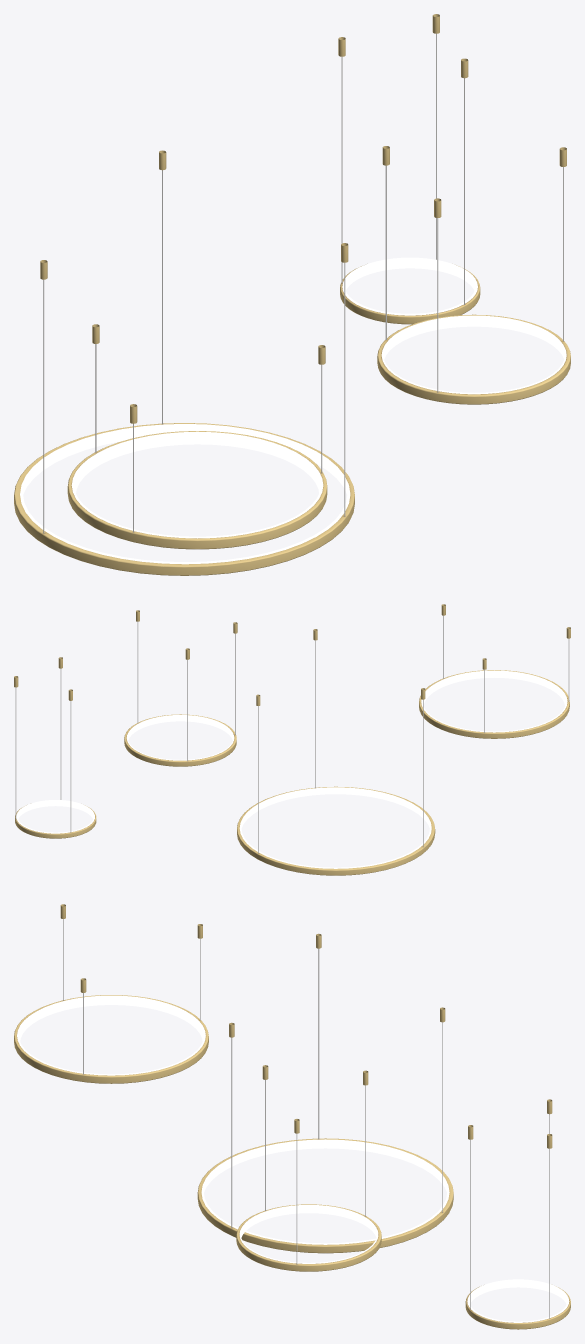
The model's file is CommunityRoomA_CenterLight.fbx.
The picture shows the model from 3 angles, top to bottom: view 1: azimuth 30°, elevation 25°; view 2: azimuth 150°, elevation 25°; view 3: azimuth 270°, elevation 25°; orthographic projection. The views are drawn at different scales.
Parts seen in each view (by area): view 1: CommunityRoomA_CenterLight; view 2: CommunityRoomA_CenterLight; view 3: CommunityRoomA_CenterLight.
Part boxes in pixels (x1,y1,x2,y2): CommunityRoomA_CenterLight: [14, 14, 570, 575]; CommunityRoomA_CenterLight: [14, 604, 570, 875]; CommunityRoomA_CenterLight: [14, 904, 570, 1329].
Bounding box in the file's own units: 312 × 128 × 305.
